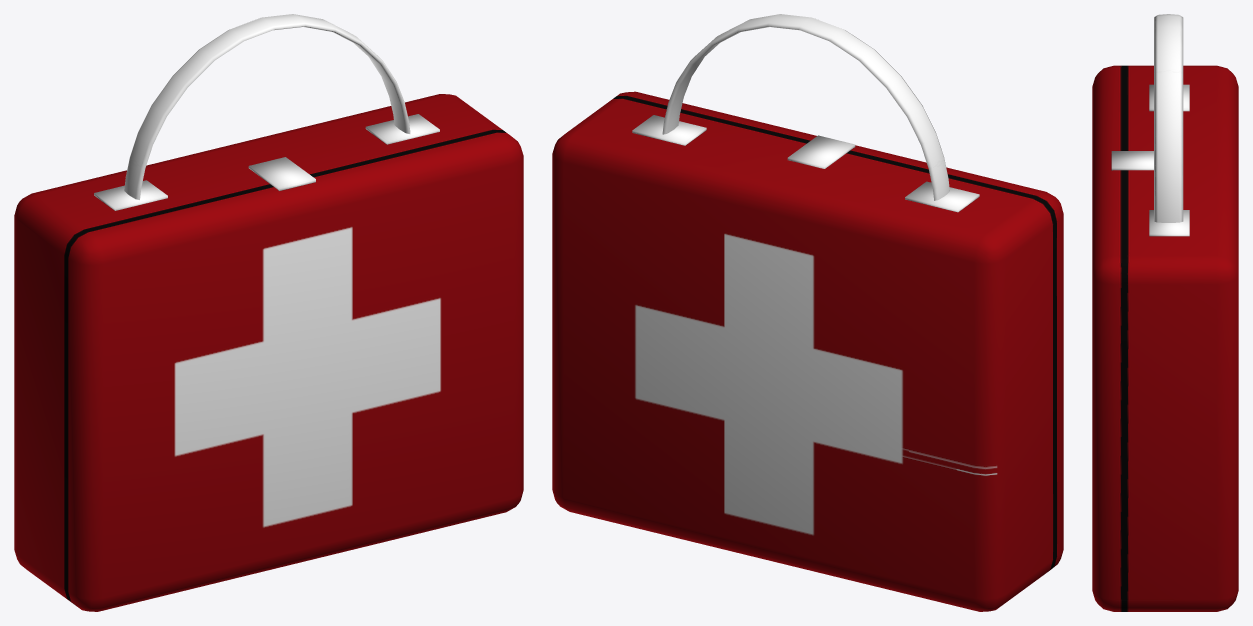
File: medkit_new.glb
3 views of the same model, side by side, from view 1: azimuth 30°, elevation 25°; view 2: azimuth 150°, elevation 25°; view 3: azimuth 270°, elevation 25° (orthographic). The views are drawn at different scales.
Visible parts, largest first — view 1: Medkit; view 2: Medkit; view 3: Medkit.
Part boxes in pixels (<box>): Medkit: <box>14,14,523,611</box>; Medkit: <box>552,14,1063,611</box>; Medkit: <box>1092,14,1238,611</box>.
Size of the model in its own units: 20 by 22.3 by 6.
Materials: 1 (1 with a texture image).
